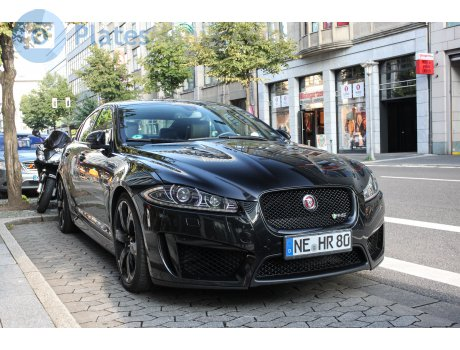License Plates: (292, 236, 353, 250)
